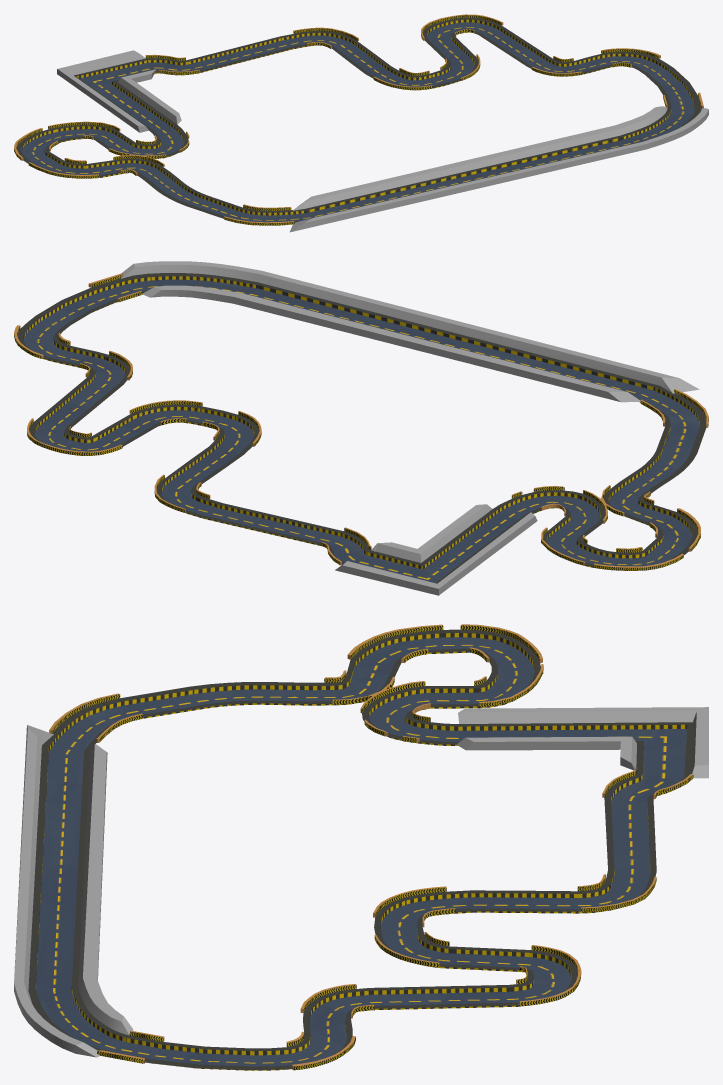
File: background.FBX
3 renders of one model, top to bottom at view 1: azimuth 30°, elevation 25°; view 2: azimuth 150°, elevation 25°; view 3: azimuth 270°, elevation 25°, orthographic. The views are drawn at different scales.
Visible parts, largest first — view 1: Object016; view 2: Object016; view 3: Object016.
Part boxes in pixels (x1=…): Object016: x1=14, y1=14, x2=708, y2=232; Object016: x1=14, y1=261, x2=708, y2=595; Object016: x1=14, y1=624, x2=708, y2=1070.
Size of the model in its own units: 1453 by 19.41 by 965.
17 materials, 17 textured.
